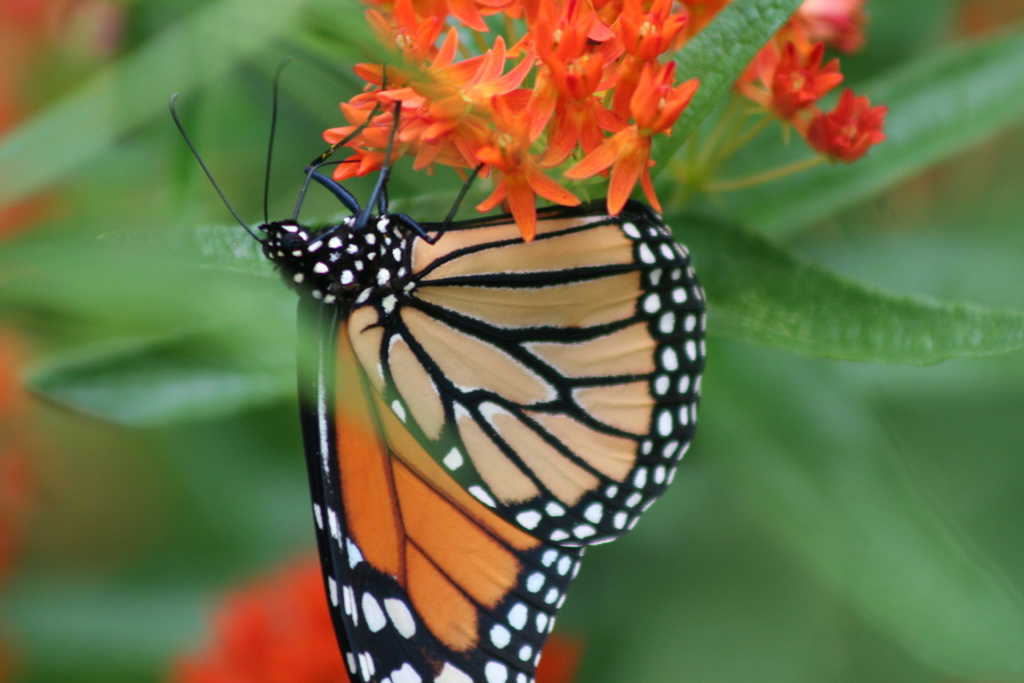Butterfly: (202, 99, 704, 683)
